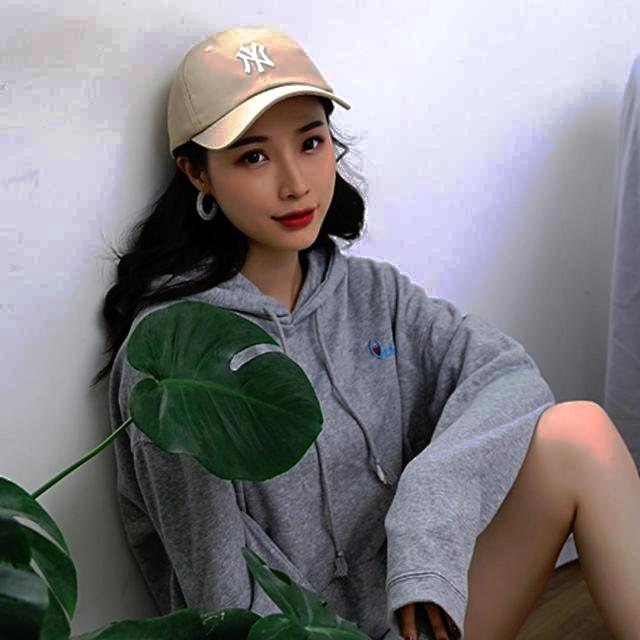TOPI: (162, 18, 354, 162)
